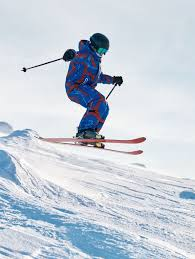skier: (18, 26, 150, 168)
